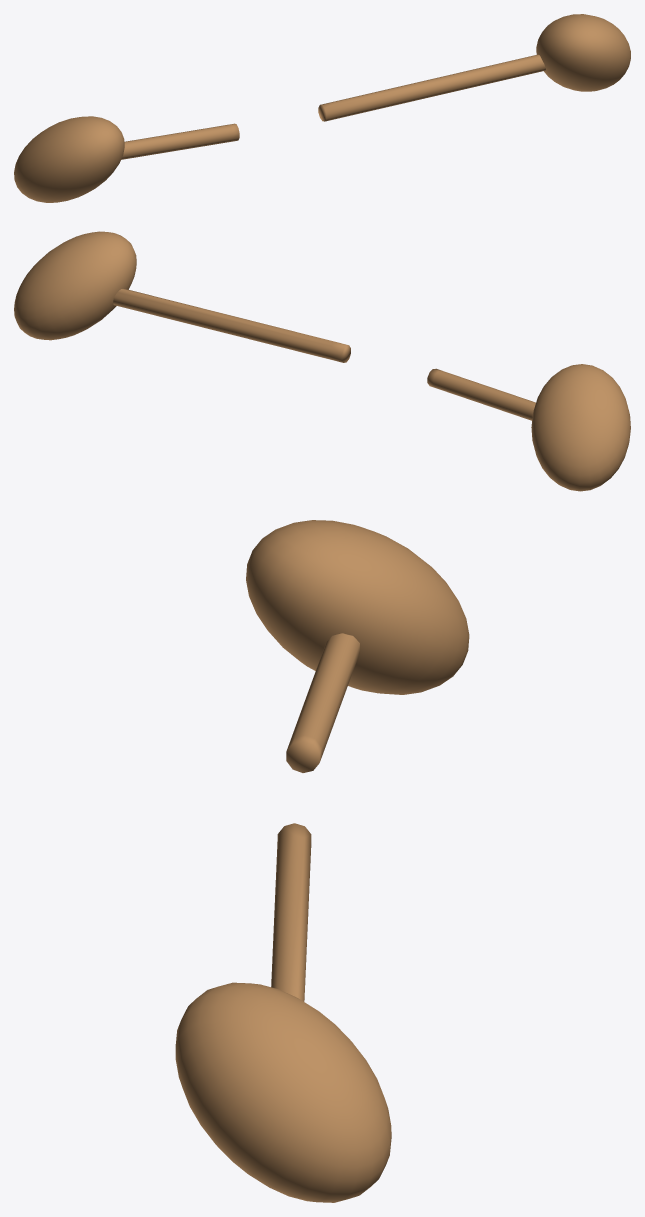
The model's file is bartholin.glb.
The picture shows the model from 3 angles, top to bottom: view 1: azimuth 30°, elevation 25°; view 2: azimuth 150°, elevation 25°; view 3: azimuth 270°, elevation 25°; orthographic projection. The views are drawn at different scales.
Parts seen in each view (by area): view 1: g0, g1; view 2: g0, g1; view 3: g0, g1.
Boxes of the visible parts, left/top/right/bottom form: g0: left=318, top=14, right=630, bottom=121; g1: left=14, top=116, right=239, bottom=202; g0: left=14, top=231, right=350, bottom=362; g1: left=427, top=364, right=630, bottom=491; g0: left=175, top=823, right=391, bottom=1202; g1: left=246, top=520, right=469, bottom=772.
Size of the model in its own units: 4.59 by 0.6662 by 1.
